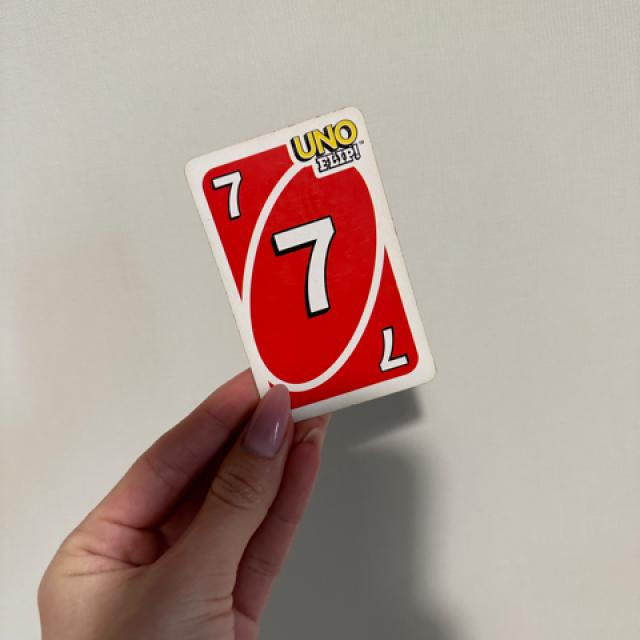lred-7: (209, 158, 265, 222)
